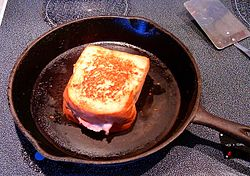cheese: (70, 108, 128, 133)
